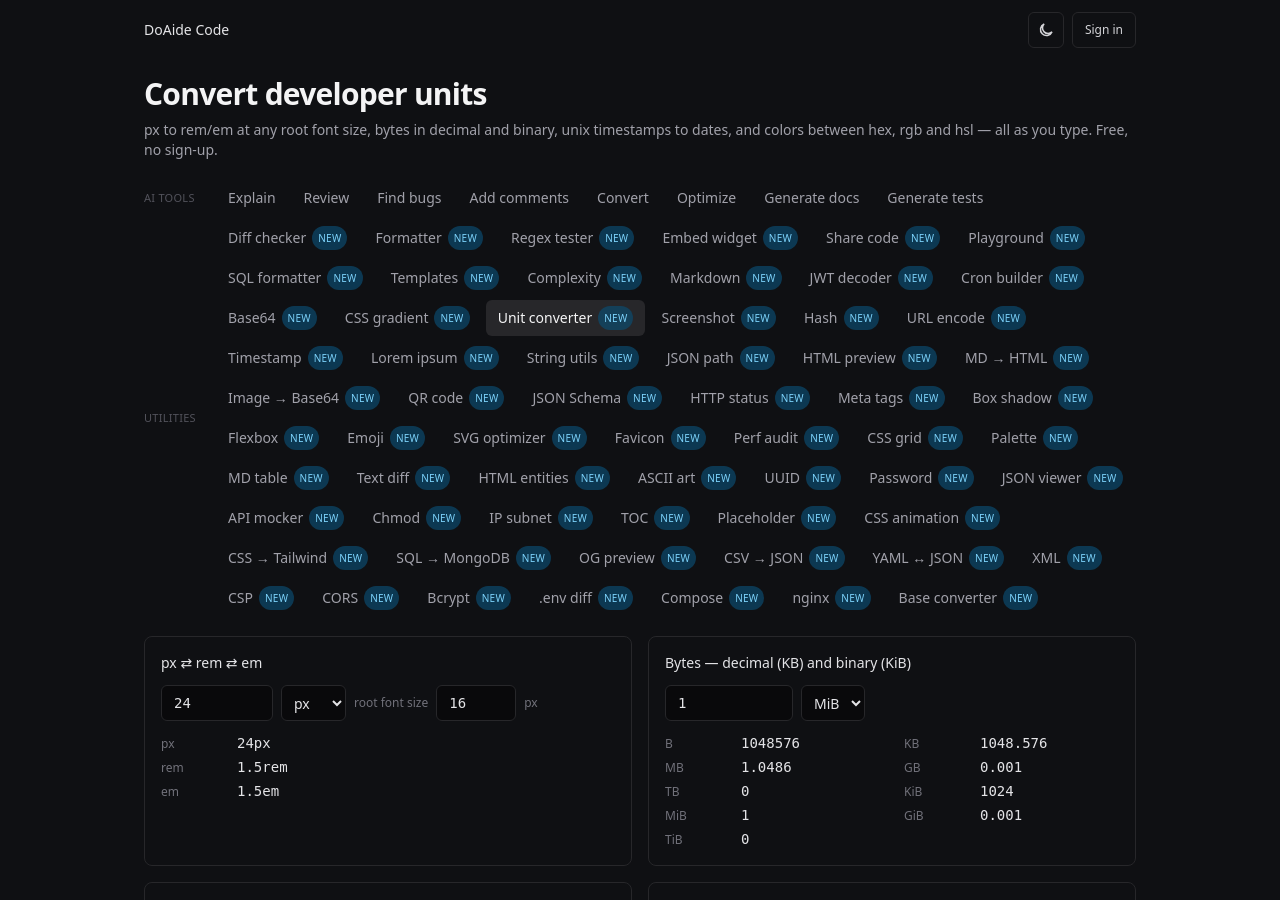
Test case: UnitPage › converts px to rem as you type
The image size is (1280, 900).
Expected: the heading "Convert developer units" is shown, [144,73,487,114]
Replace the text in the number field with test id "px-value" with "32" at (217, 703), box [161,685,273,721]
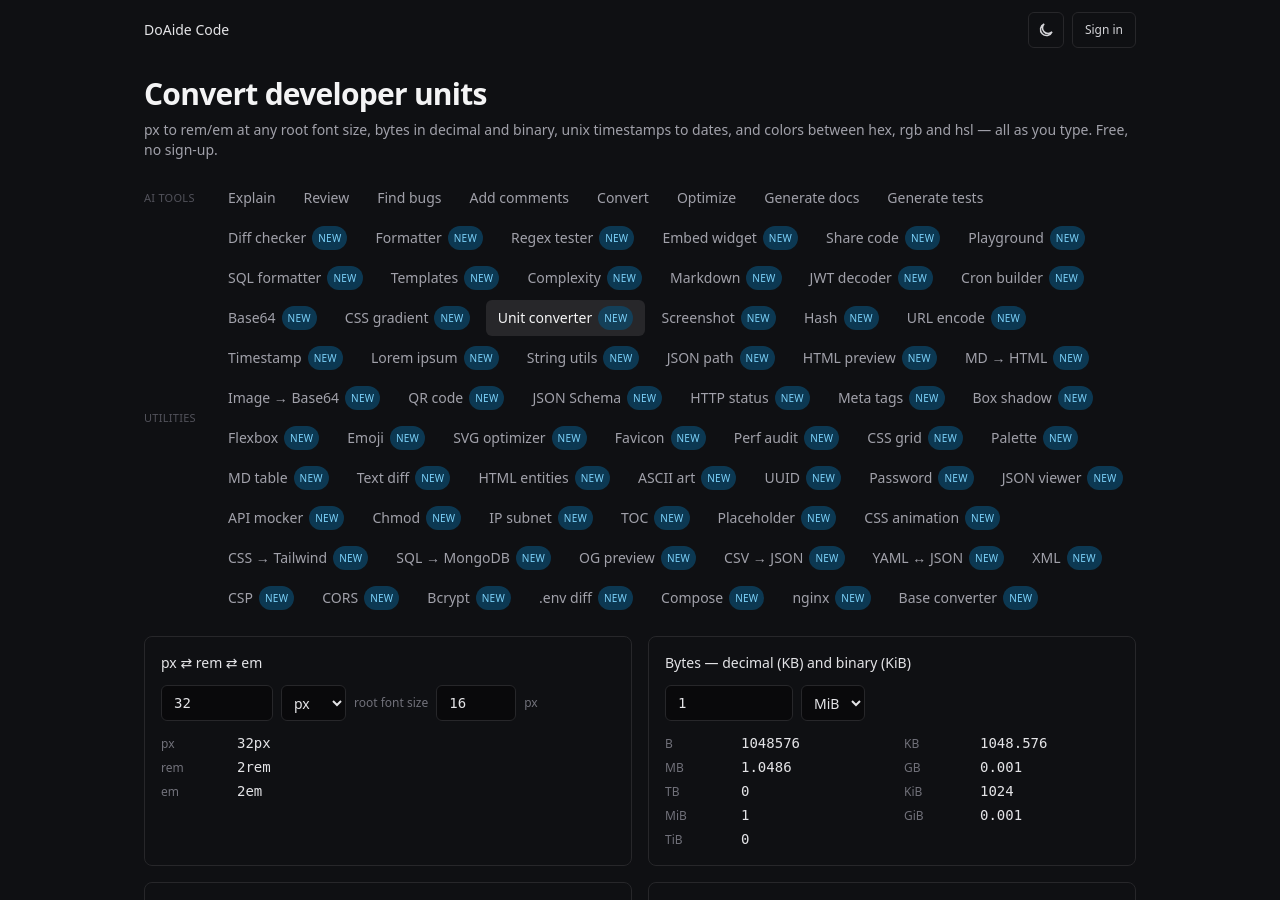
Expected: the element with test id "px-out" shows "2rem", [237,759,271,775]
